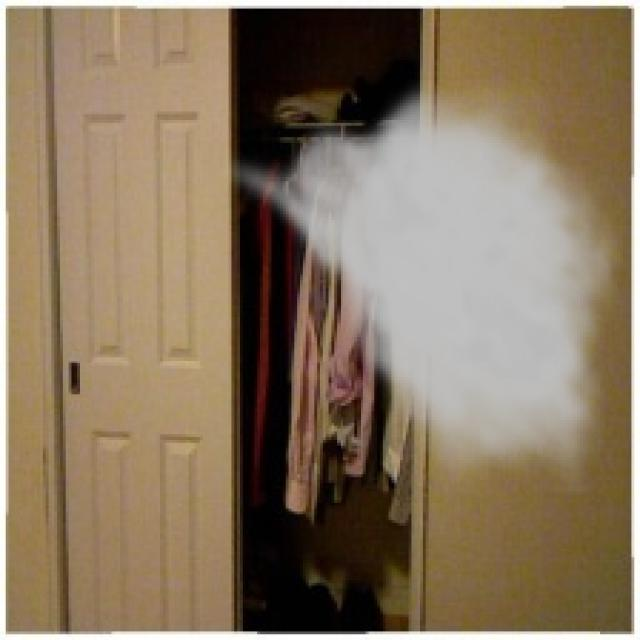smoke: (211, 74, 623, 497)
